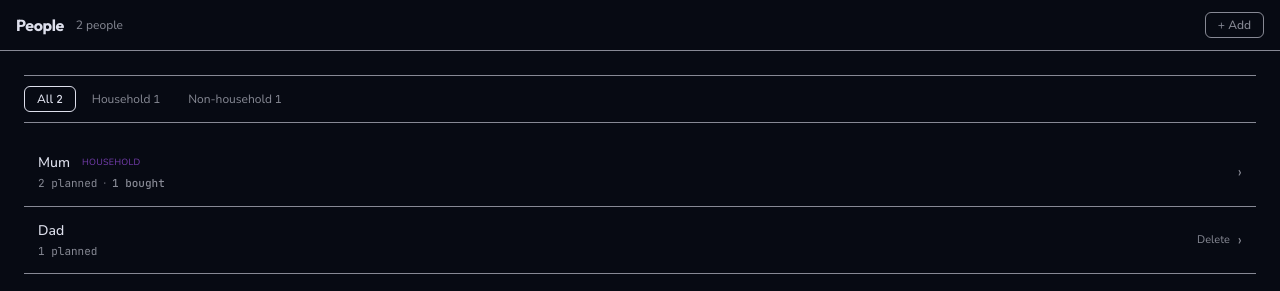
Test case: ConfigPeoplePanel › filters to household-linked when filter set to household
Click the button "Household 1".
click(126, 99)  # box [80,86,172,112]
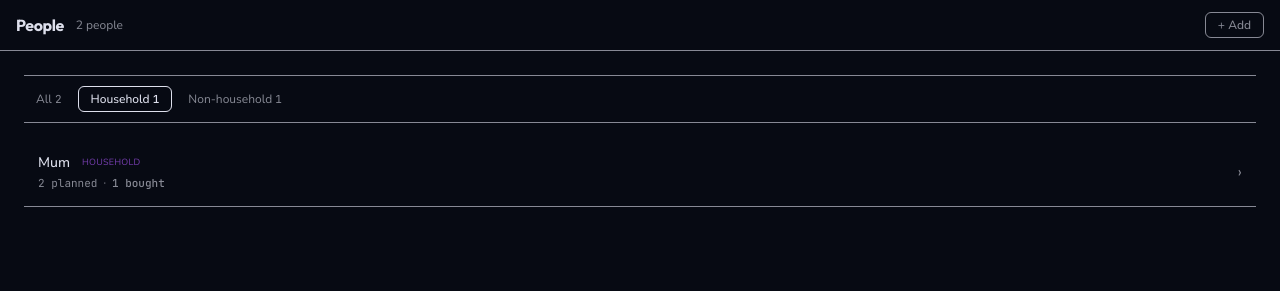
Check: the text "Mum" is shown, box [38,153,70,173]
Check: the text "Dad" is gone
